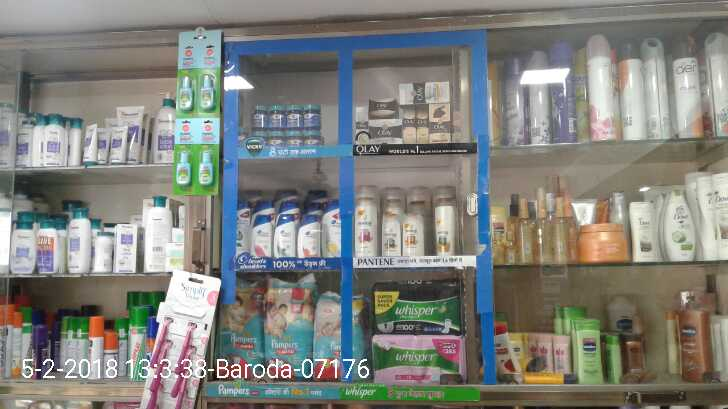beauty: (435, 206, 460, 257), (398, 78, 450, 102), (297, 216, 323, 258), (356, 203, 377, 253), (402, 213, 423, 259), (250, 212, 271, 256), (379, 217, 403, 255), (428, 100, 450, 141), (371, 119, 402, 147), (325, 202, 341, 254), (274, 216, 295, 255), (364, 98, 399, 117), (401, 106, 416, 147), (415, 104, 428, 144)
pharmacy: (263, 281, 314, 381), (373, 335, 464, 388), (376, 280, 463, 332), (221, 281, 261, 375), (247, 100, 266, 131), (284, 98, 304, 127), (302, 98, 322, 126), (263, 103, 284, 127)
